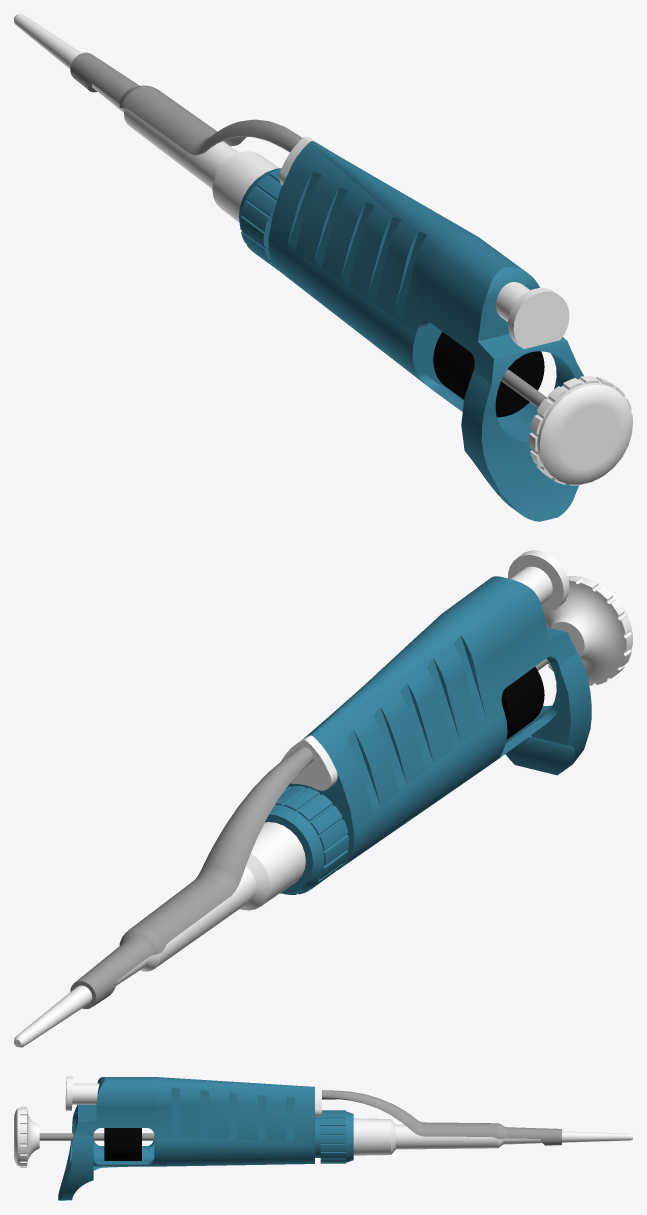
The model's file is pipette_up.obj.
3 renders of one model, top to bottom at view 1: azimuth 30°, elevation 25°; view 2: azimuth 150°, elevation 25°; view 3: azimuth 270°, elevation 25°, orthographic. The views are drawn at different scales.
Parts seen in each view (by area): view 1: Body1, Body12, Body15, Body13; view 2: Body1, Body15, Body12, Body13, Body14; view 3: Body1, Body15, Body12, Body13, Body14.
Boxes of the visible parts, x1=… form: Body1: x1=14, y1=14, x2=583, y2=521; Body12: x1=501, y1=369, x2=632, y2=485; Body15: x1=70, y1=52, x2=302, y2=154; Body13: x1=433, y1=332, x2=544, y2=417; Body1: x1=14, y1=550, x2=591, y2=1047; Body15: x1=70, y1=746, x2=313, y2=1008; Body12: x1=535, y1=576, x2=632, y2=685; Body13: x1=501, y1=667, x2=544, y2=739; Body14: x1=281, y1=735, x2=337, y2=790; Body1: x1=58, y1=1076, x2=632, y2=1200; Body15: x1=322, y1=1090, x2=561, y2=1145; Body12: x1=14, y1=1106, x2=154, y2=1167; Body13: x1=104, y1=1128, x2=141, y2=1160; Body14: x1=315, y1=1087, x2=321, y2=1116.
Size of the model in its own units: 2.75 by 5.29 by 24.8.
